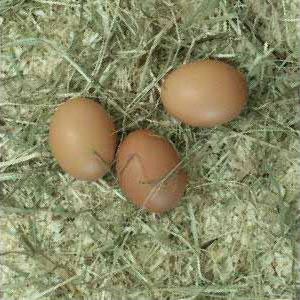egg: (160, 60, 248, 127), (117, 131, 185, 212), (49, 97, 116, 179)
